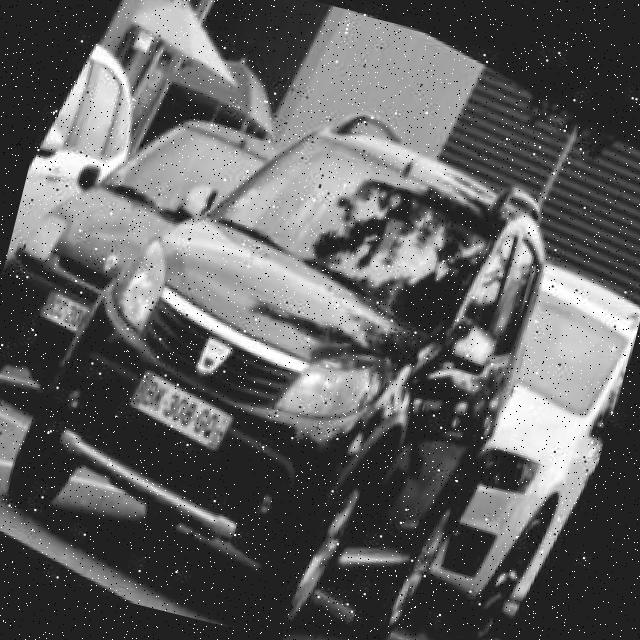Autre: (127, 368, 232, 451), (38, 288, 86, 329)
